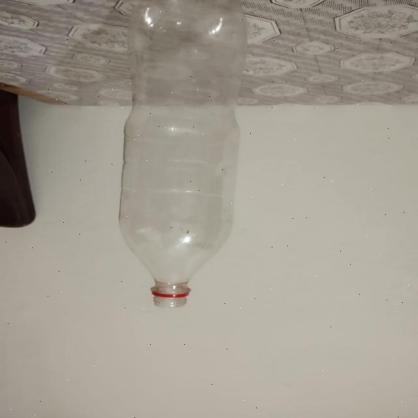bottle: (110, 0, 245, 310)
